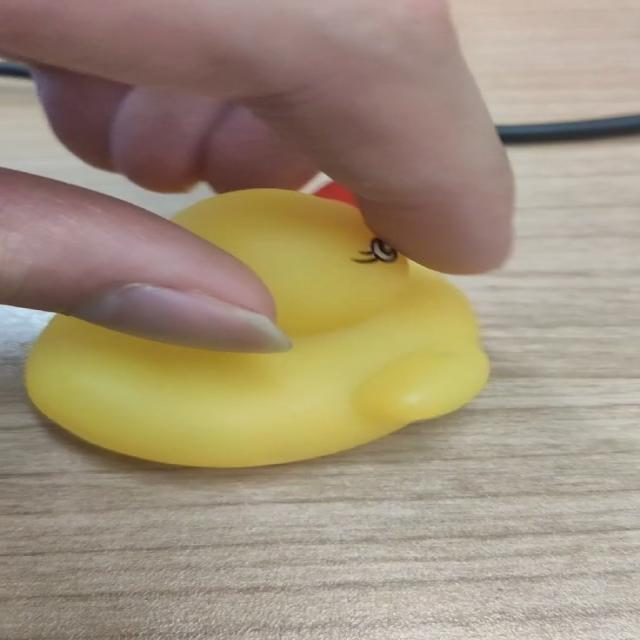rubber-duck: (25, 188, 487, 465)
